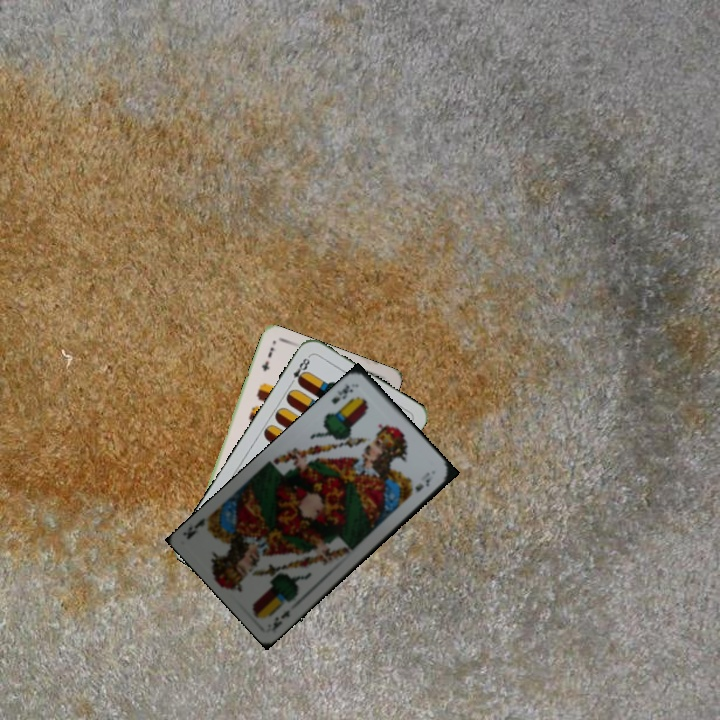E7: (257, 343, 277, 374)
E8: (286, 352, 313, 388)
EK: (327, 380, 356, 407), (268, 606, 293, 634)
